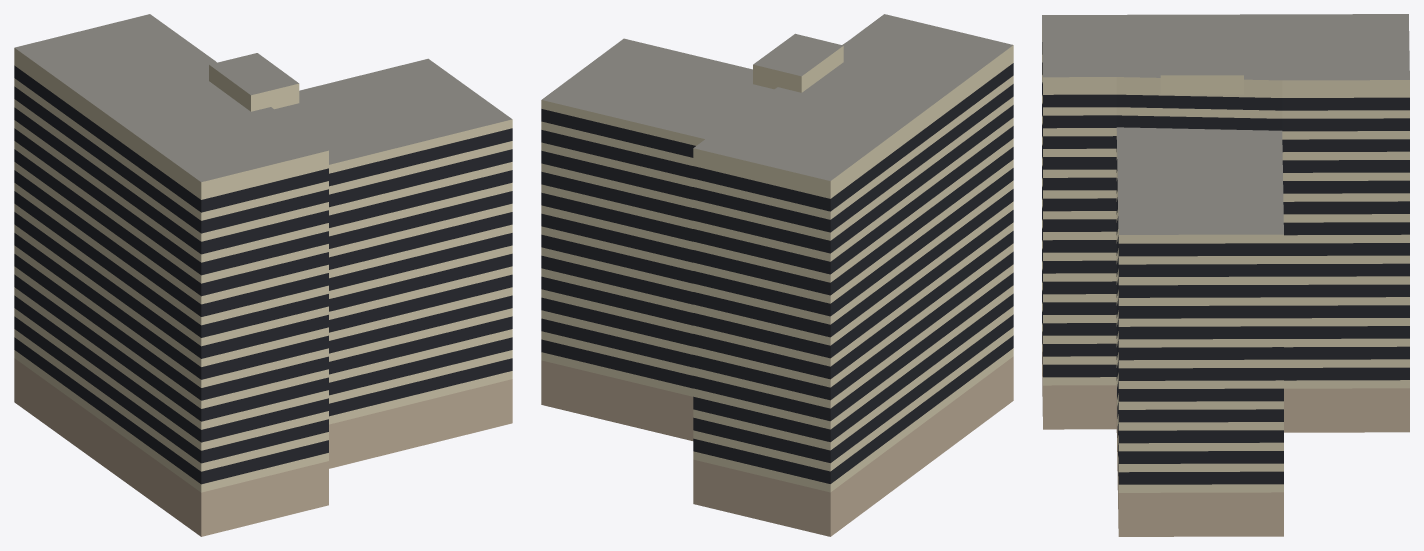
The model's file is hilton_slc_center.glb.
3 renders of one model, left to right at view 1: azimuth 30°, elevation 25°; view 2: azimuth 150°, elevation 25°; view 3: azimuth 270°, elevation 25°, orthographic.
Visible parts, largest first — view 1: Hilton_Slc_Center; view 2: Hilton_Slc_Center; view 3: Hilton_Slc_Center.
Boxes of the visible parts, box(x1,y1,x2,y2) form: Hilton_Slc_Center: box(14, 14, 512, 536); Hilton_Slc_Center: box(541, 14, 1013, 536); Hilton_Slc_Center: box(1042, 14, 1409, 536).
Size of the model in its own units: 58.18 by 58.6 by 53.01.
